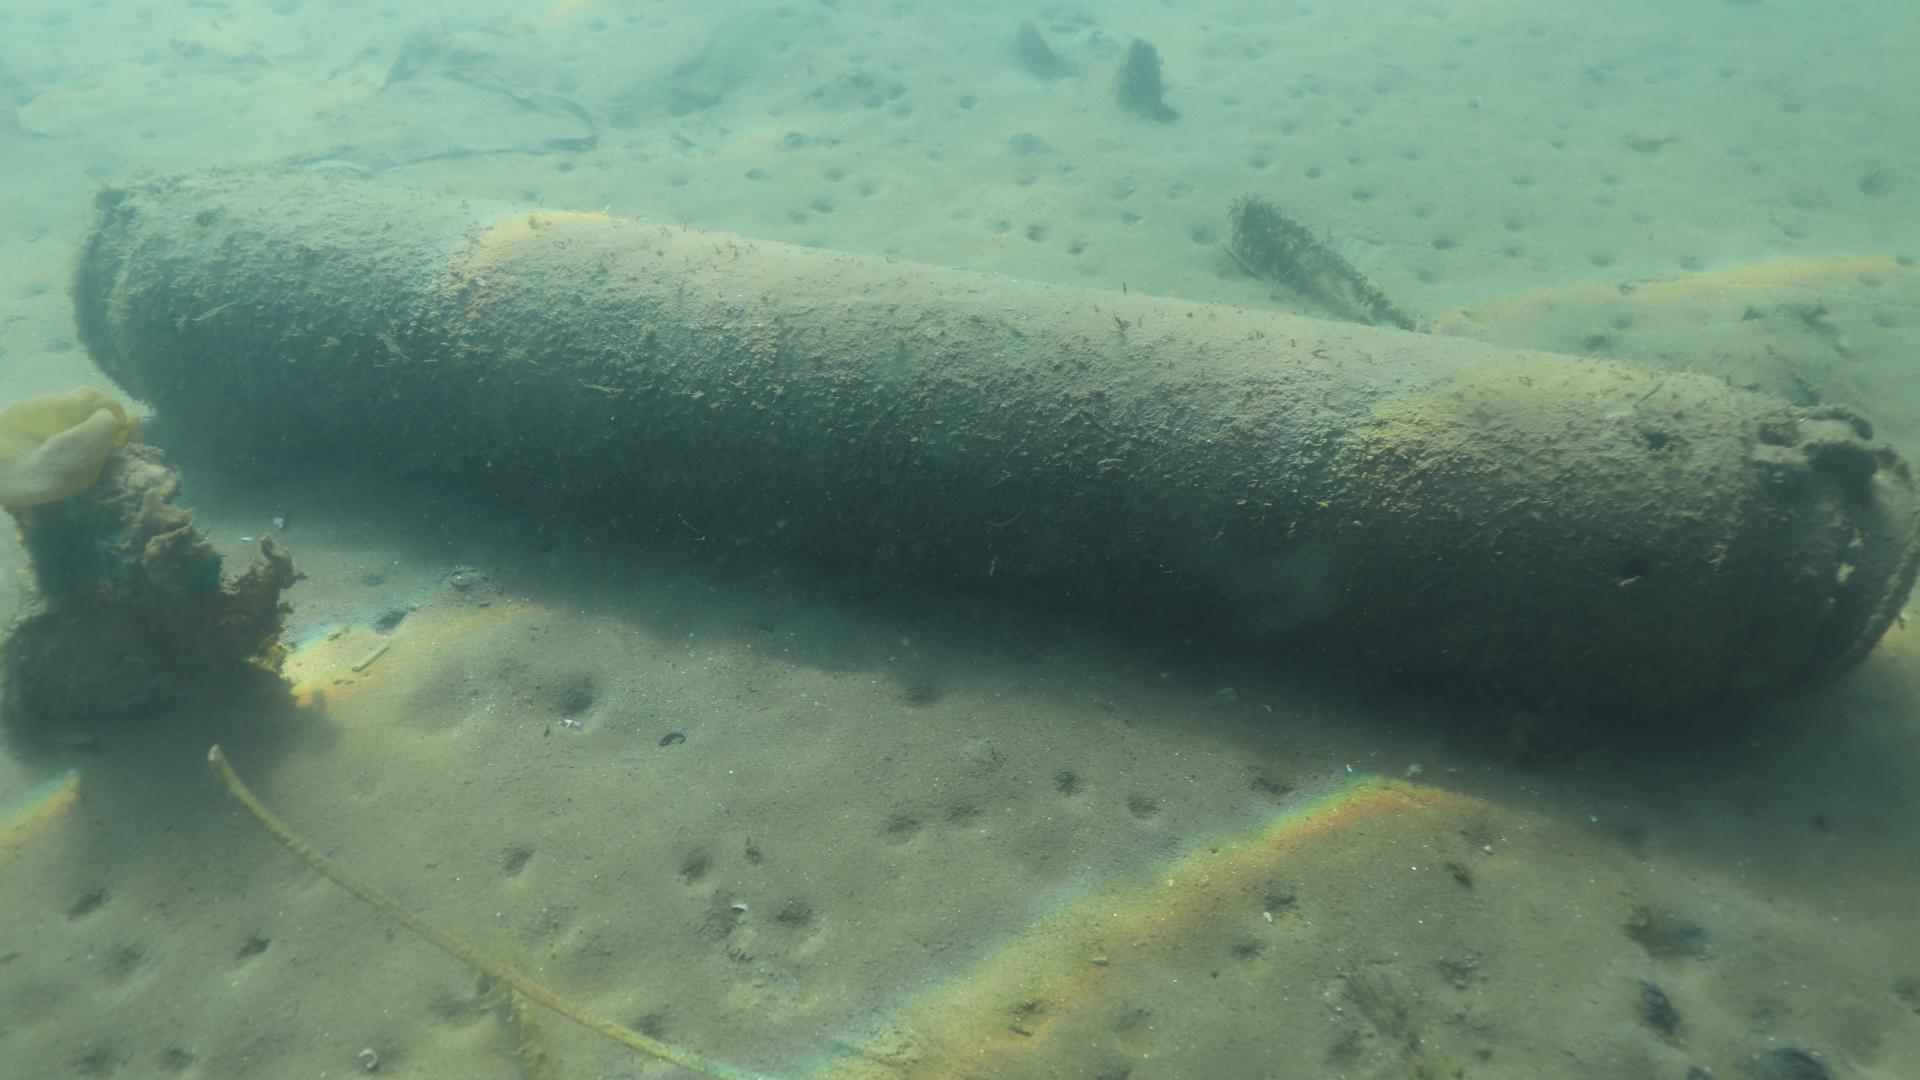eel fish trap: (75, 164, 1919, 715)
